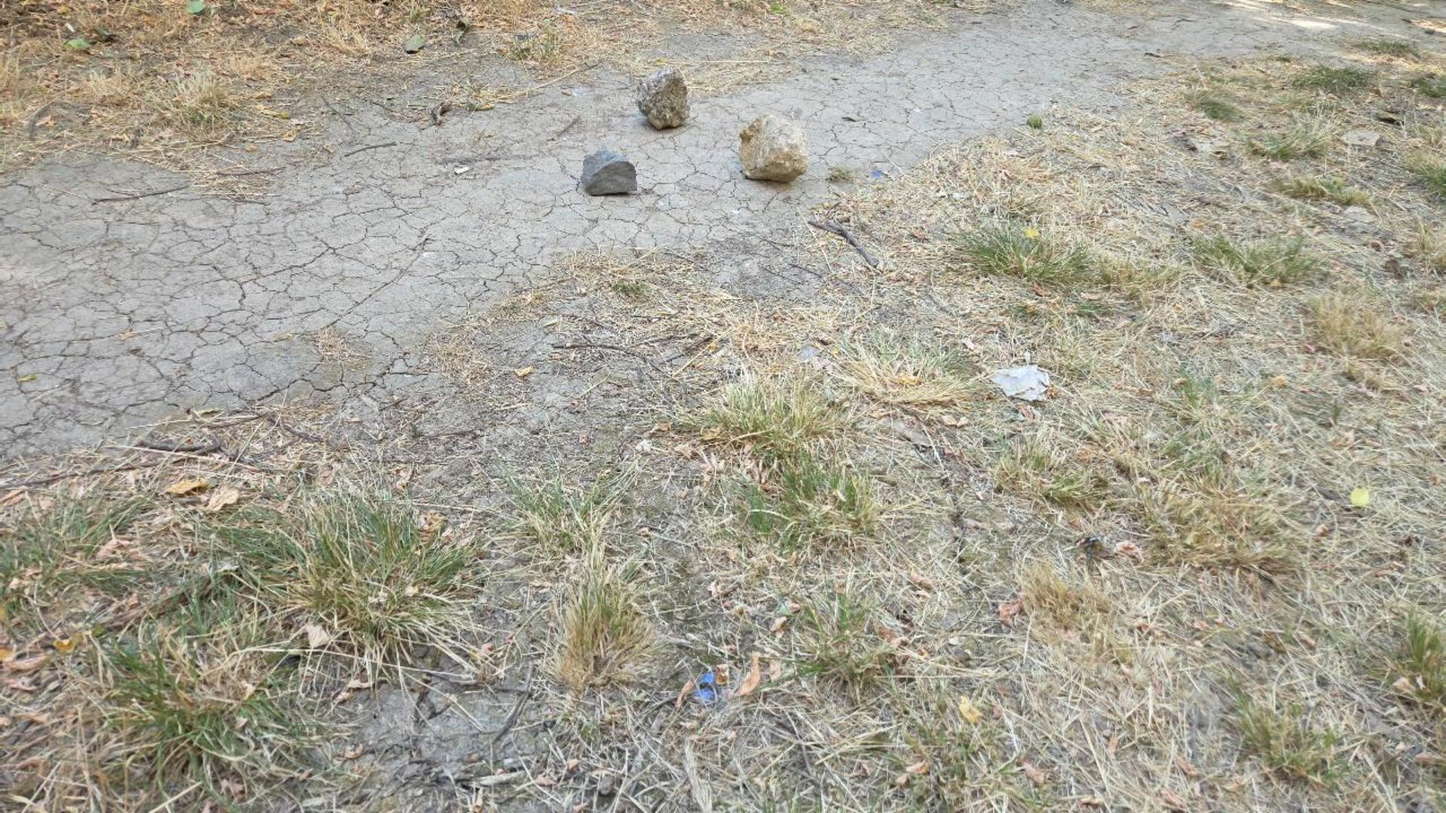rock: (740, 113, 808, 181), (637, 67, 688, 129), (578, 149, 636, 194)
